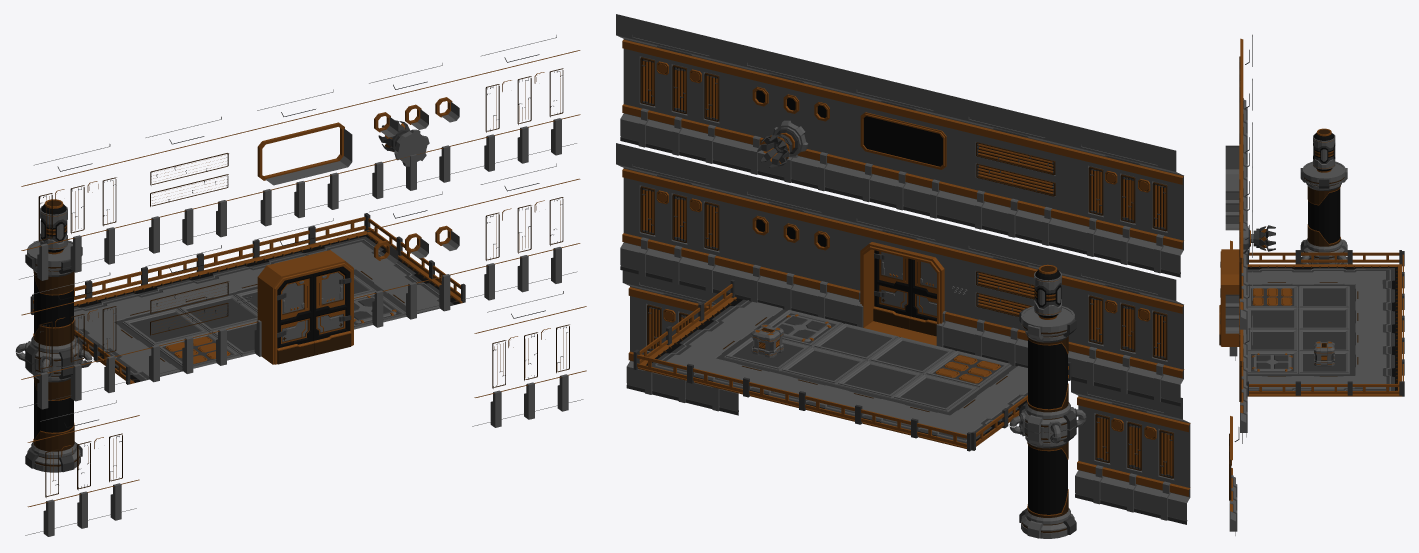
Rendered from environment.glb.
The picture shows the model from 3 angles, left to right: view 1: azimuth 30°, elevation 25°; view 2: azimuth 150°, elevation 25°; view 3: azimuth 270°, elevation 25°; orthographic projection. The views are drawn at different scales.
Visible parts, largest first — view 1: mergedBlocks(Clone); view 2: mergedBlocks(Clone); view 3: mergedBlocks(Clone).
Boxes of the visible parts, box(x1,y1,x2,y2) form: mergedBlocks(Clone): box(15, 35, 586, 536); mergedBlocks(Clone): box(616, 14, 1190, 538); mergedBlocks(Clone): box(1219, 34, 1404, 535).
Bounding box in the file's own units: 20 × 13.03 × 7.14.
